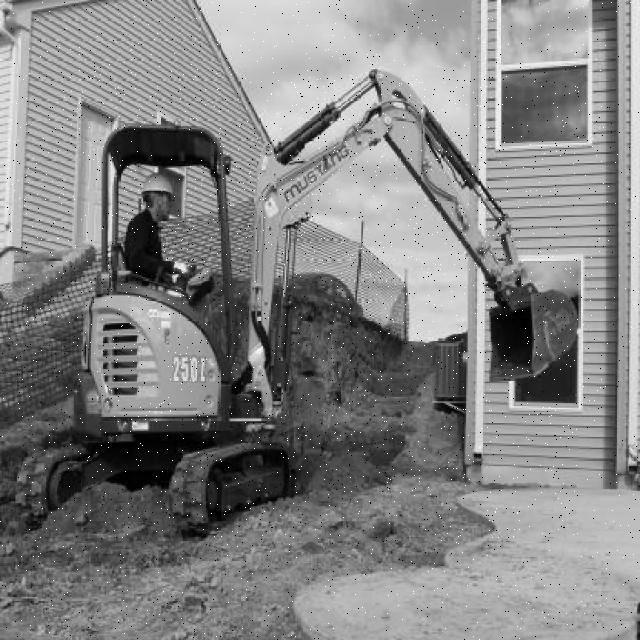Construction Equipment: (15, 69, 578, 539)
